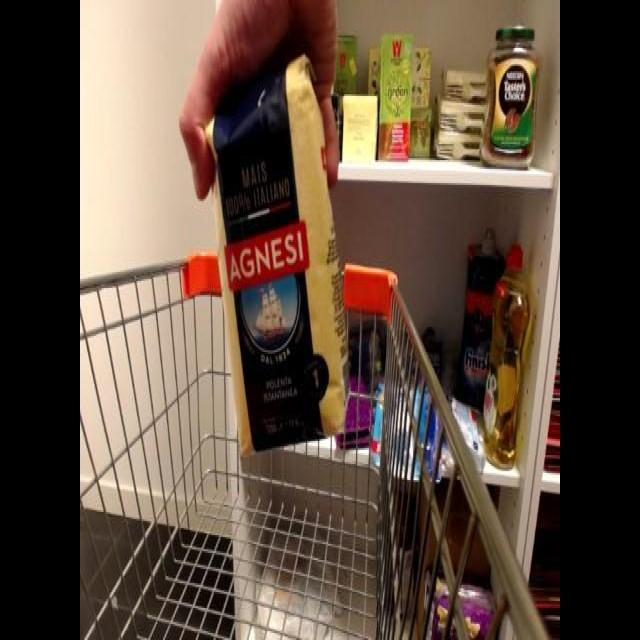Agnesi Polenta: (205, 44, 354, 470)
